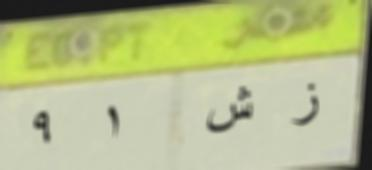1: (90, 98, 140, 142)
9: (27, 104, 59, 148)
sheen: (200, 80, 264, 138)
zay: (286, 80, 328, 134)
